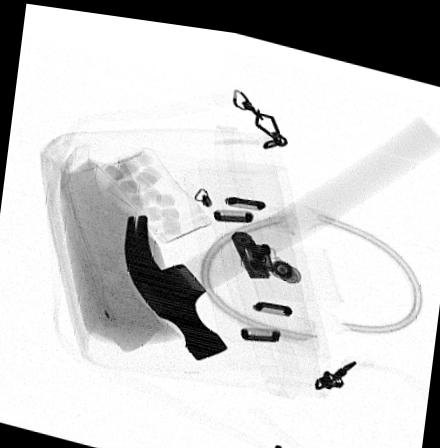Hammer: (124, 102, 440, 356)
